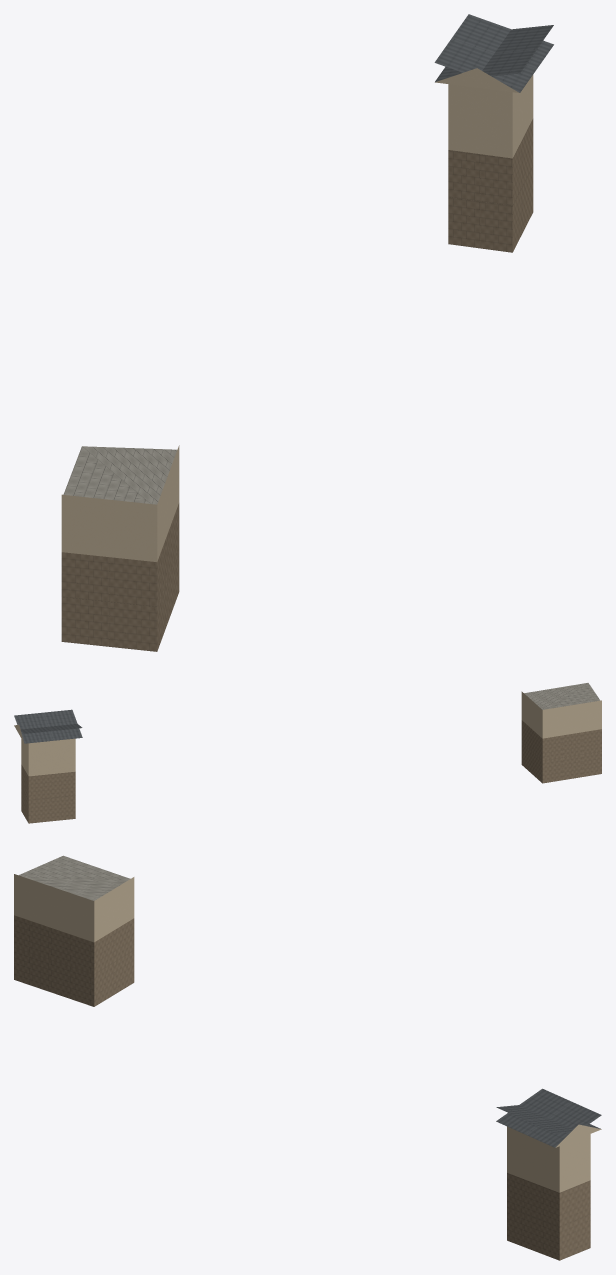
The model's file is bld_c15_37_408.gltf.
3 renders of one model, top to bottom at view 1: azimuth 30°, elevation 25°; view 2: azimuth 150°, elevation 25°; view 3: azimuth 270°, elevation 25°, orthographic. The views are drawn at different scales.
Visible parts, largest first — view 1: bld_c15_37_408; view 2: bld_c15_37_408; view 3: bld_c15_37_408.
Boxes of the visible parts, x1=… form: bld_c15_37_408: x1=61, y1=14, x2=553, y2=651; bld_c15_37_408: x1=14, y1=683, x2=601, y2=823; bld_c15_37_408: x1=14, y1=855, x2=601, y2=1260.
Bounding box in the file's own units: 44.37 × 9.4 × 37.61.
5 materials, 5 textured.
